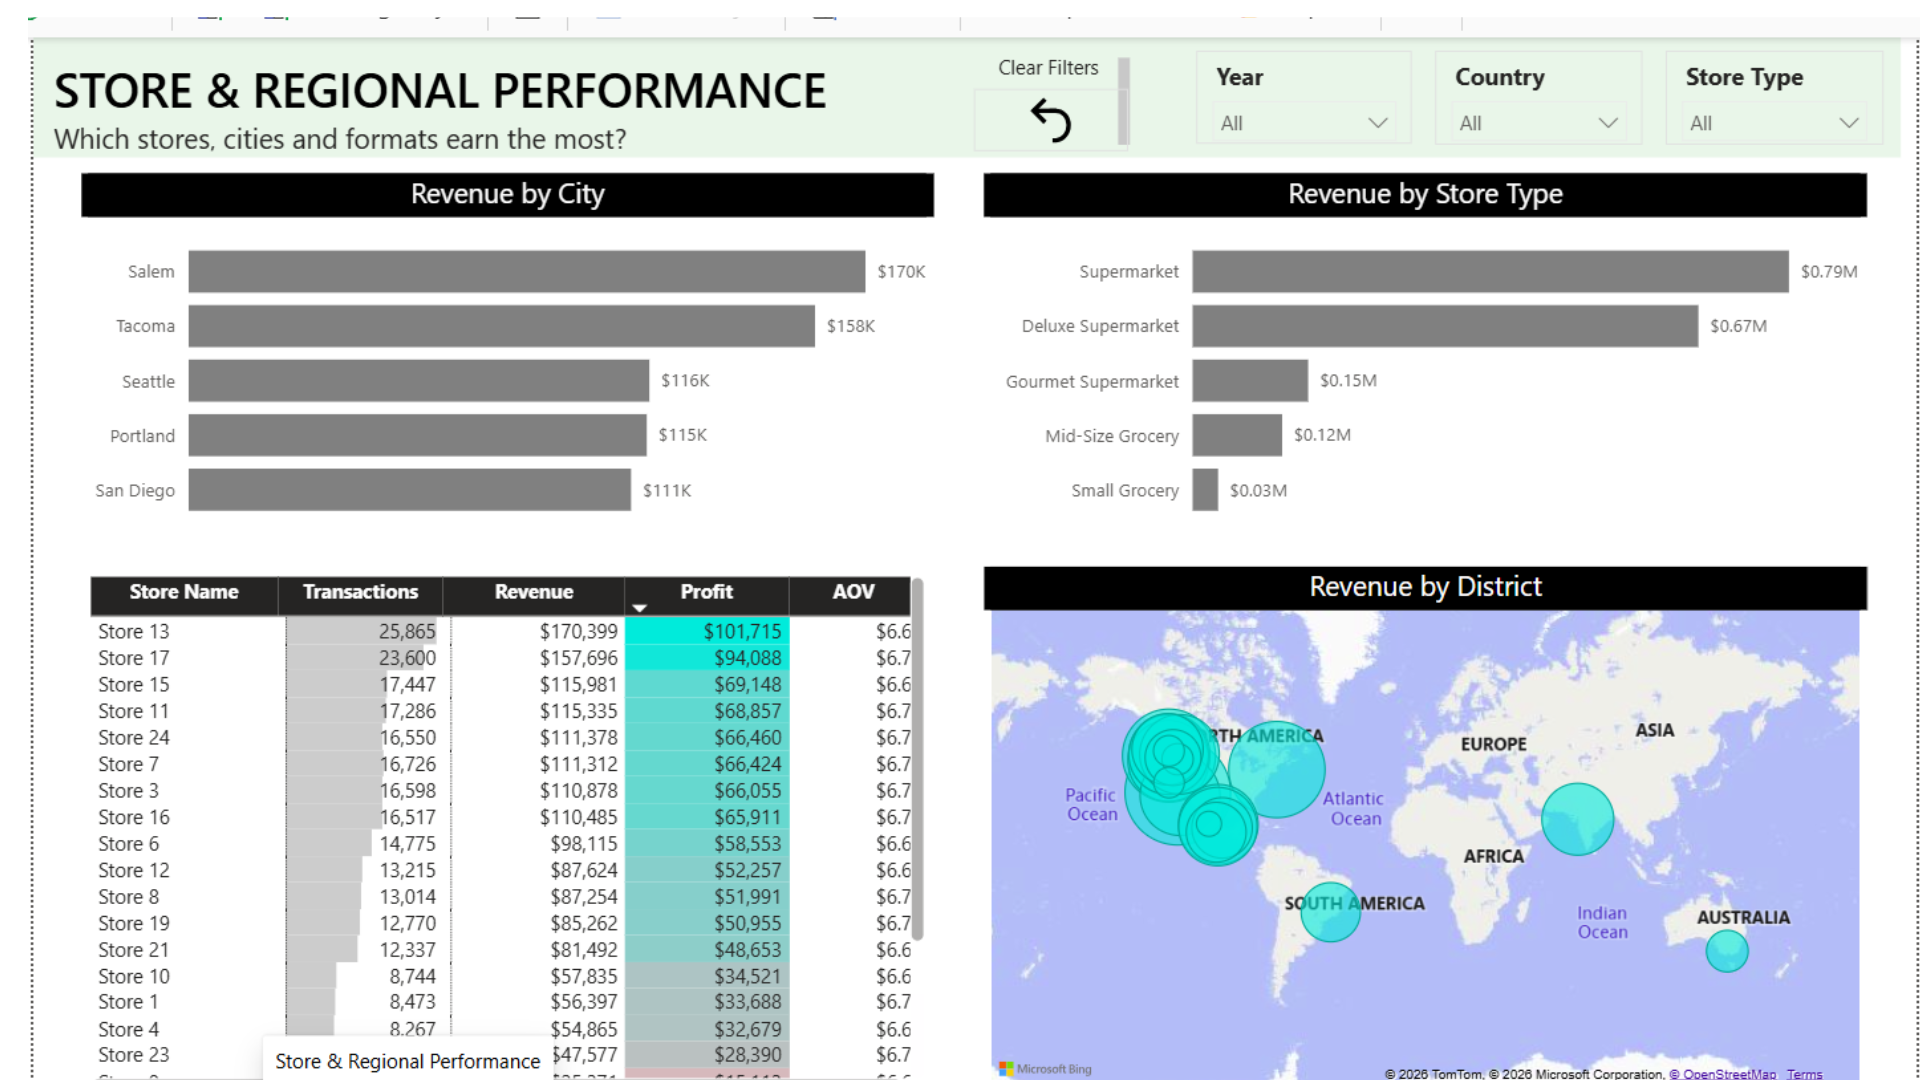

The page's visual inventory and layout, read from the dashboard file:
{"tool":"powerbi","page":{"name":"Store & Regional Performance","canvas":[1280,720],"ordinal":1},"visuals":[{"type":"shape","box":[0,0,1269,81.9],"z":0},{"type":"textbox","box":[8.6,8.6,741,73.4],"z":1000},{"type":"slicer","fields":{"Values":["Calendar_Lookup.Year"]},"box":[789.9,8.5,146.7,63.6],"z":2000},{"type":"slicer","fields":{"Values":["Store_Lookup.store_country"]},"box":[952.6,8.5,140.8,64],"z":3000},{"type":"slicer","fields":{"Values":["Store_Lookup.store_type"]},"box":[1109.3,8.5,147.9,64],"z":4000},{"type":"clusteredBarChart","title":"Revenue by City","fields":{"Category":["Store_Lookup.store_city"],"Y":["Measure Table.Total Revenue"]},"box":[32.7,92.4,578.8,250.3],"z":5000},{"type":"clusteredBarChart","title":"Revenue by Store Type","fields":{"Category":["Store_Lookup.store_type"],"Y":["Measure Table.Total Revenue"]},"box":[645.7,92.4,600.2,250.3],"z":6000},{"type":"tableEx","fields":{"Values":["Store_Lookup.store_name","Measure Table.Total Transactions","Measure Table.Total Revenue","Measure Table.Profit","Measure Table.Avg Order Value"]},"box":[32.7,361.2,577.4,359.8],"z":7000},{"type":"map","title":"Revenue by District","fields":{"Category":["Region_Lookup.sales_district"],"Size":["Measure Table.Total Revenue"]},"box":[645.7,359.8,600.2,361.2],"z":8000},{"type":"actionButton","title":"Clear Filters","box":[639.5,35.5,105.2,42.8],"z":9000},{"type":"textbox","box":[639.5,6.1,101.5,29.3],"z":10000}]}

Visuals, with their boxes in screenshot pixels (x1, y1, x2, y2), scaled from the page's 1280x720 canvas onto the 1920x1080 screenshot:
shape: [left=0, top=0, right=1904, bottom=123]
textbox: [left=13, top=13, right=1124, bottom=123]
slicer - Calendar_Lookup.Year: [left=1185, top=13, right=1405, bottom=108]
slicer - Store_Lookup.store_country: [left=1429, top=13, right=1640, bottom=109]
slicer - Store_Lookup.store_type: [left=1664, top=13, right=1886, bottom=109]
"Revenue by City" clusteredBarChart: [left=49, top=139, right=917, bottom=514]
"Revenue by Store Type" clusteredBarChart: [left=969, top=139, right=1869, bottom=514]
tableEx - Store_Lookup.store_name x Measure Table.Total Transactions: [left=49, top=542, right=915, bottom=1079]
"Revenue by District" map: [left=969, top=540, right=1869, bottom=1079]
"Clear Filters" actionButton: [left=959, top=53, right=1117, bottom=117]
textbox: [left=959, top=9, right=1112, bottom=53]
